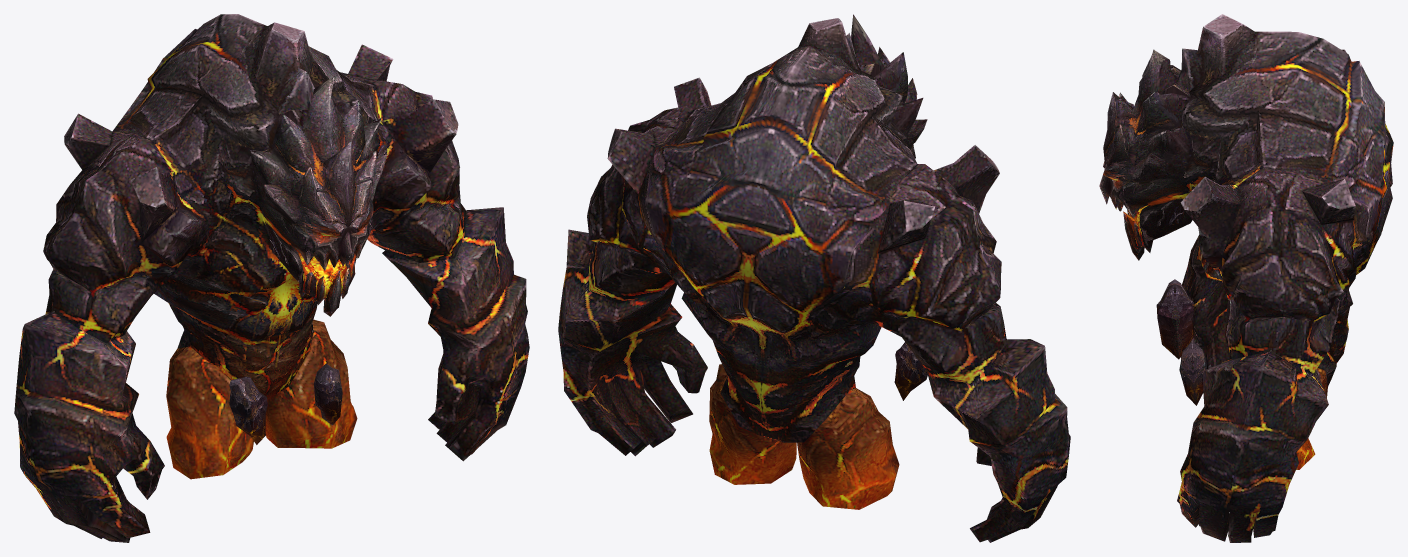
The model's file is Building_statue.FBX.
3 renders of one model, left to right at view 1: azimuth 30°, elevation 25°; view 2: azimuth 150°, elevation 25°; view 3: azimuth 270°, elevation 25°, orthographic. The views are drawn at different scales.
Parts seen in each view (by area): view 1: Building_statue; view 2: Building_statue; view 3: Building_statue.
Part boxes in pixels (x1,y1,x2,y2): Building_statue: [14, 14, 529, 542]; Building_statue: [558, 14, 1070, 542]; Building_statue: [1099, 14, 1393, 542].
Bounding box in the file's own units: 995 × 895 × 540.
